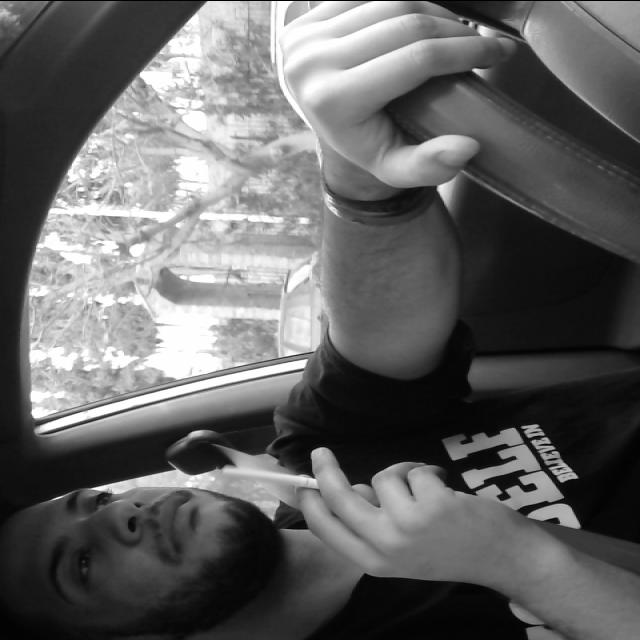smoking: (218, 462, 344, 492)
